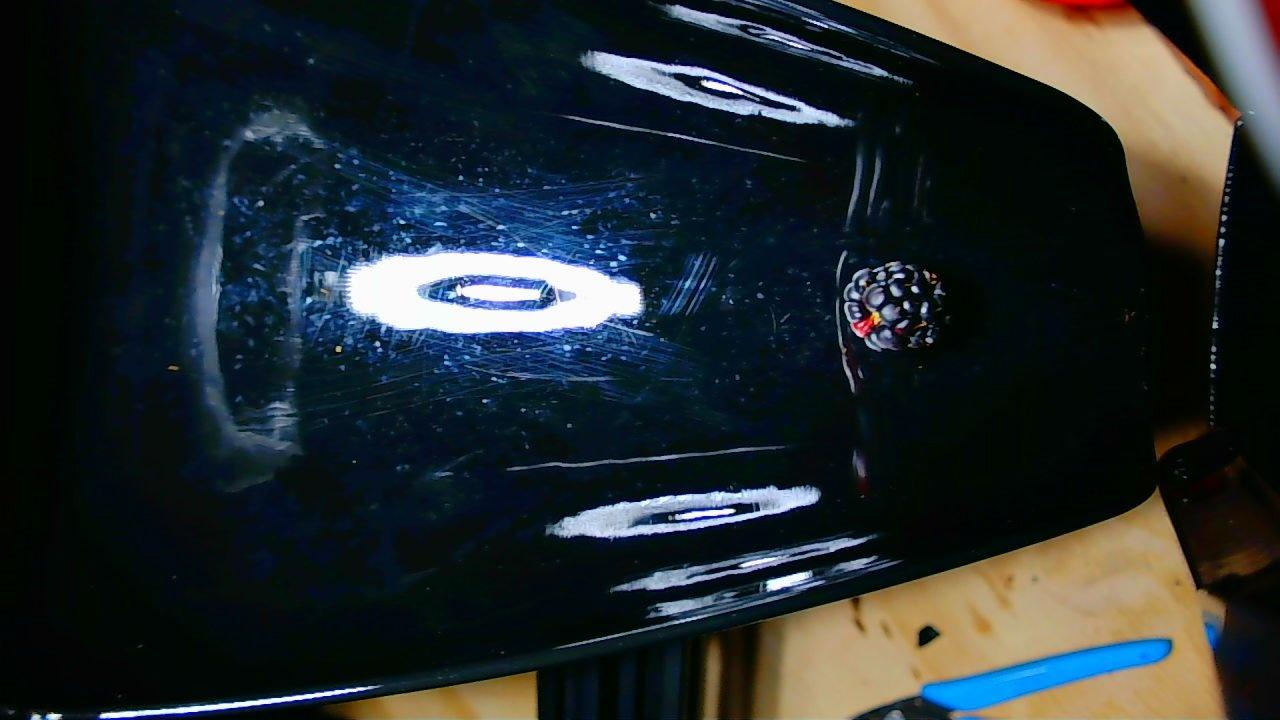berry: (840, 261, 946, 350)
